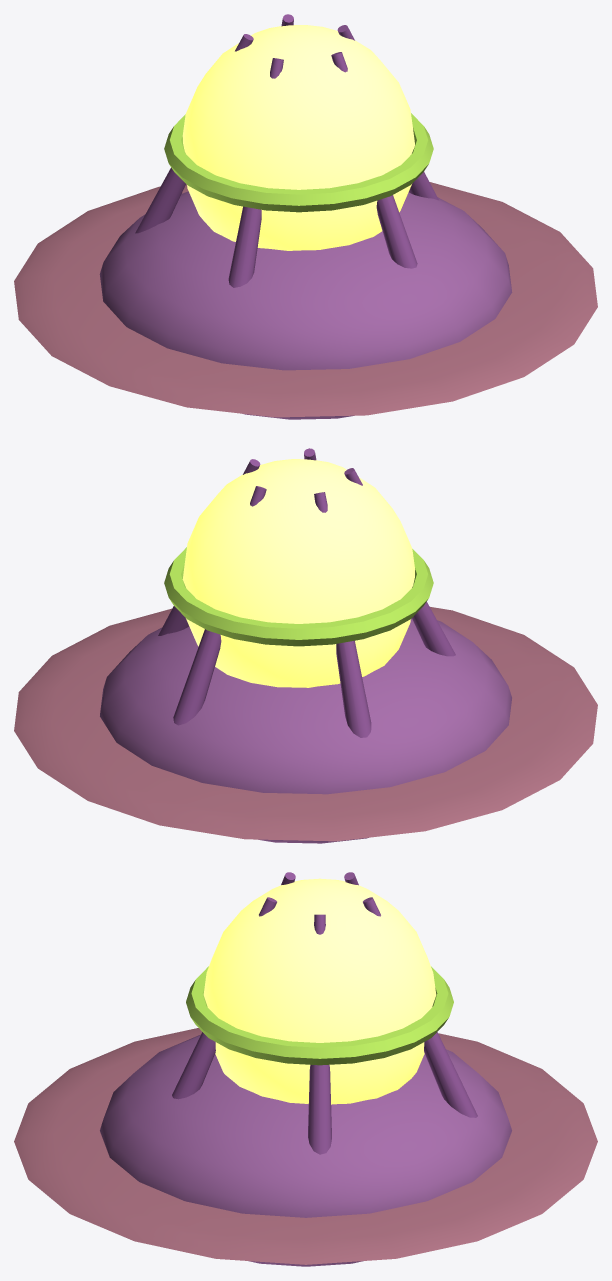
File: power_ins.glb
3 views of the same model, one above another, from view 1: azimuth 30°, elevation 25°; view 2: azimuth 150°, elevation 25°; view 3: azimuth 270°, elevation 25° (orthographic).
Visible parts, largest first — view 1: power_ins; view 2: power_ins; view 3: power_ins.
Part boxes in pixels (<box>): power_ins: <box>14,14,597,419</box>; power_ins: <box>14,448,597,843</box>; power_ins: <box>14,872,597,1266</box>.
Size of the model in its own units: 2.09 by 1.35 by 2.09.
